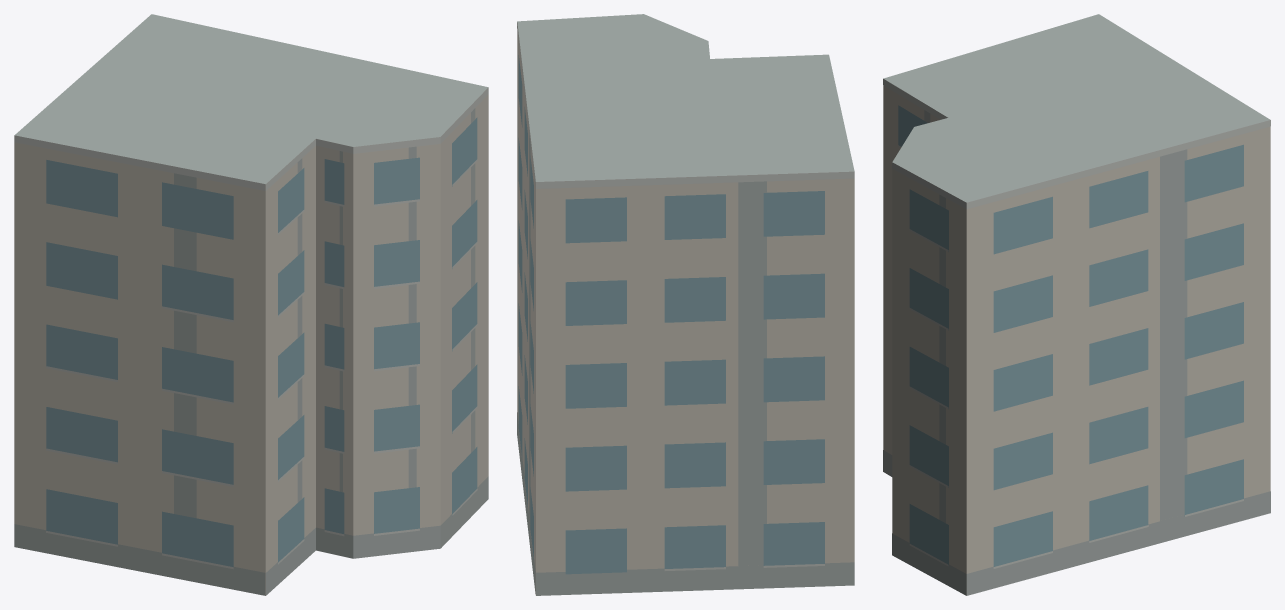
Rendered from survey-upis-32893651.glb.
The picture shows the model from 3 angles, left to right: view 1: azimuth 30°, elevation 25°; view 2: azimuth 150°, elevation 25°; view 3: azimuth 270°, elevation 25°; orthographic projection. The views are drawn at different scales.
Visible parts, largest first — view 1: survey-upis-32893651.tmp; view 2: survey-upis-32893651.tmp; view 3: survey-upis-32893651.tmp.
Part boxes in pixels (x1,y1,x2,y2): survey-upis-32893651.tmp: [14, 14, 488, 595]; survey-upis-32893651.tmp: [517, 14, 854, 595]; survey-upis-32893651.tmp: [883, 14, 1270, 595].
Size of the model in its own units: 15.04 by 14.6 by 13.05.
